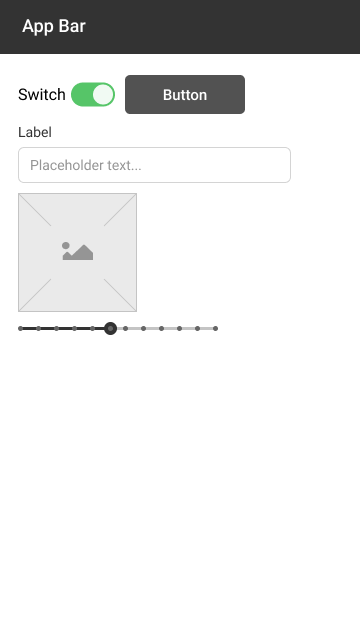button: (123, 73, 248, 116)
editText: (16, 144, 295, 186)
imageView: (16, 191, 140, 314)
slider: (14, 320, 221, 337)
switch: (16, 79, 116, 109)
textView: (16, 123, 54, 140)
toolbar: (1, 1, 360, 57)
